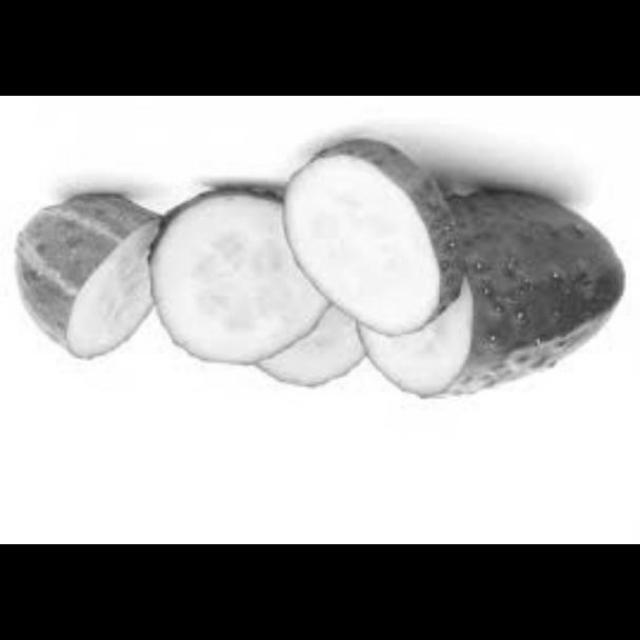cucumber: (352, 184, 630, 416), (269, 136, 486, 338), (140, 184, 329, 370), (11, 182, 162, 364), (245, 280, 368, 400)
